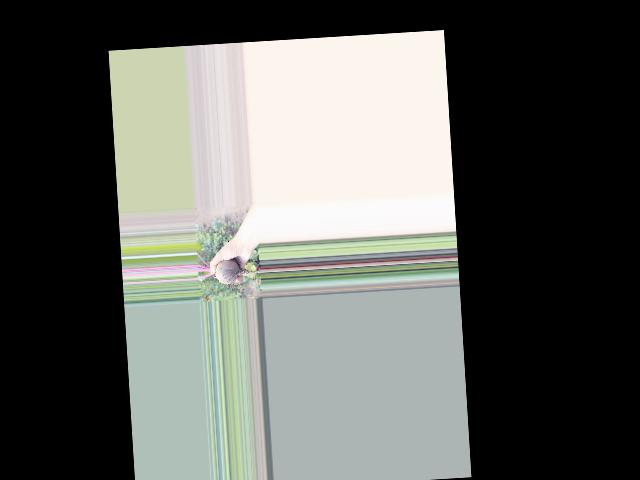beet: (196, 248, 262, 295)
